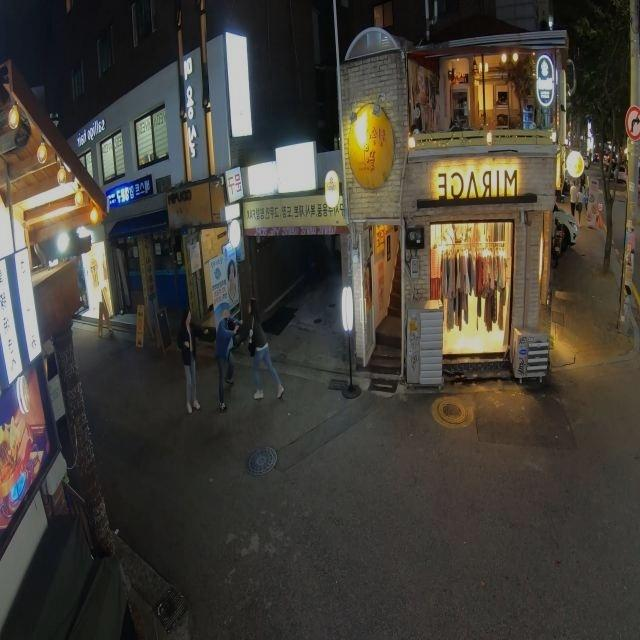fight: (216, 298, 286, 408)
non-fight: (382, 0, 441, 47), (180, 311, 197, 408)
